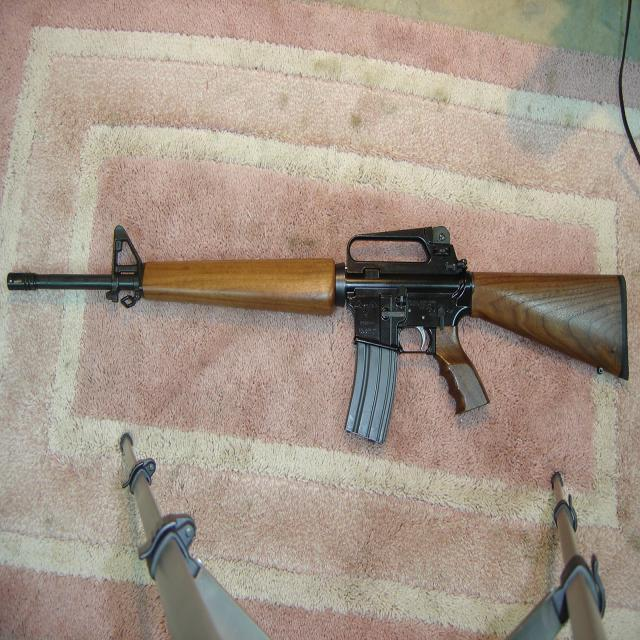weapon: (7, 226, 632, 448)
